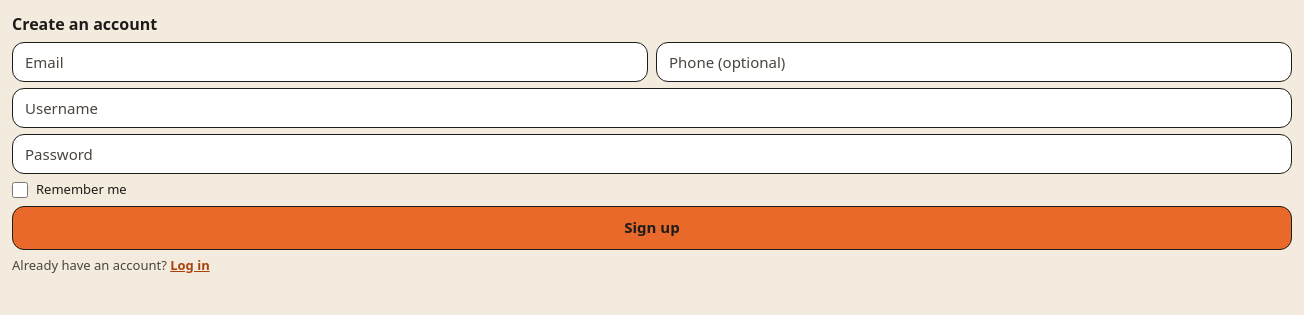
signing up with an email that has an account names the email
Type "a@b.com" into the field with placeholder "Email" at {"x": 330, "y": 62}, box [12, 42, 648, 82]
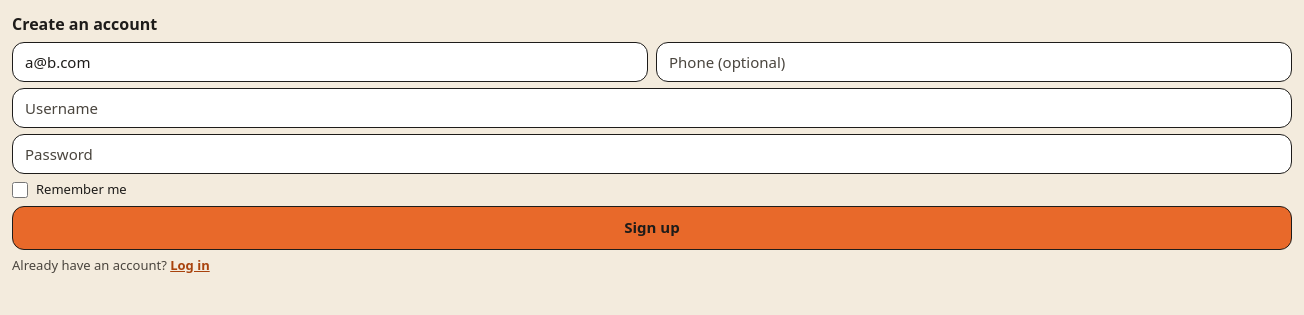
Type "new_one" into the field with placeholder "Username" at {"x": 652, "y": 108}, box [12, 88, 1292, 128]
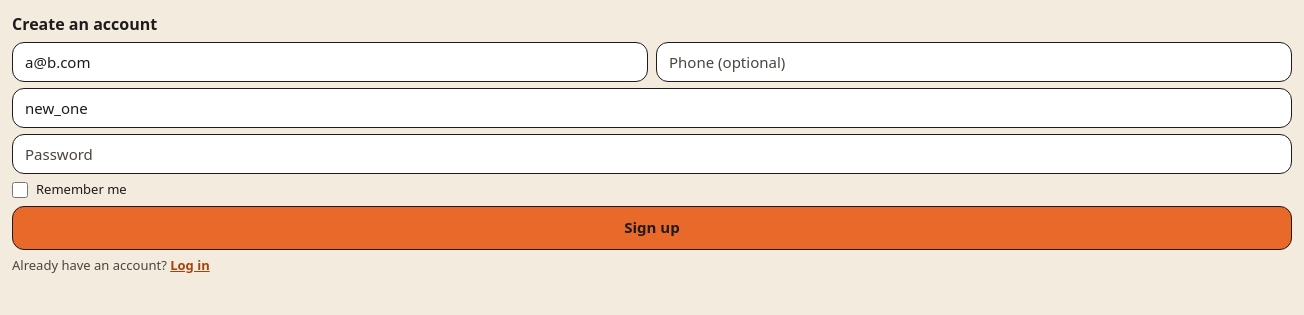
Type "pw" into the password field with placeholder "Password" at {"x": 652, "y": 154}, box [12, 134, 1292, 174]
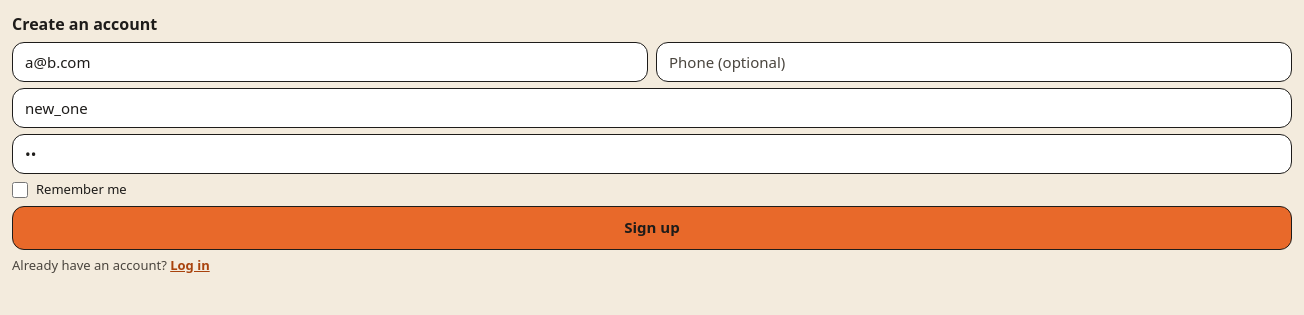
Click the button "Sign up" at {"x": 652, "y": 228}, box [12, 206, 1292, 250]
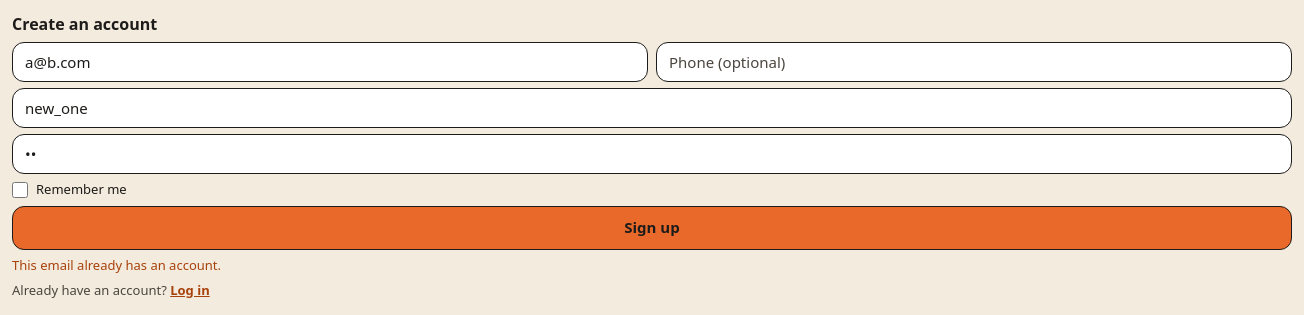
Expected: the message reads "This email already has an account.", [12, 256, 221, 274]
